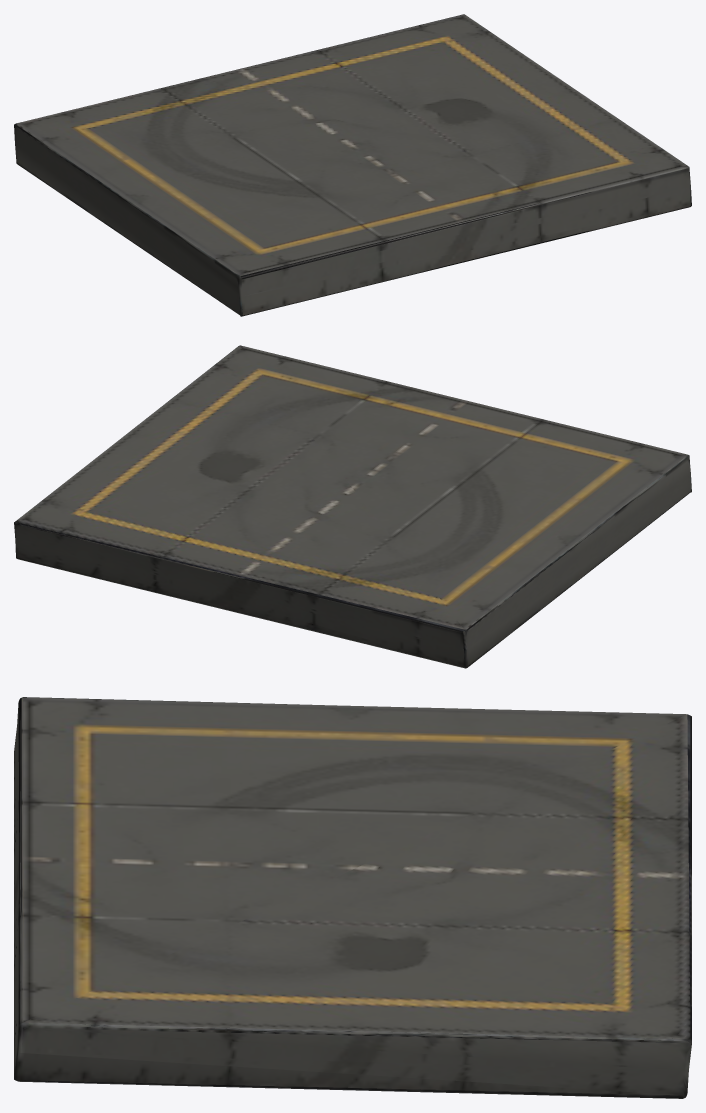
File: floor.glb
3 renders of one model, top to bottom at view 1: azimuth 30°, elevation 25°; view 2: azimuth 150°, elevation 25°; view 3: azimuth 270°, elevation 25°, orthographic. The views are drawn at different scales.
Visible parts, largest first — view 1: tripo_node_e5eb50ab-ba34-4344-9571-825d407ab639; view 2: tripo_node_e5eb50ab-ba34-4344-9571-825d407ab639; view 3: tripo_node_e5eb50ab-ba34-4344-9571-825d407ab639.
Part boxes in pixels (<box>): tripo_node_e5eb50ab-ba34-4344-9571-825d407ab639: <box>14,14,691,316</box>; tripo_node_e5eb50ab-ba34-4344-9571-825d407ab639: <box>14,345,691,668</box>; tripo_node_e5eb50ab-ba34-4344-9571-825d407ab639: <box>14,697,691,1098</box>.
Size of the model in its own units: 2.52 by 0.35 by 2.2.
1 material, 1 textured.
